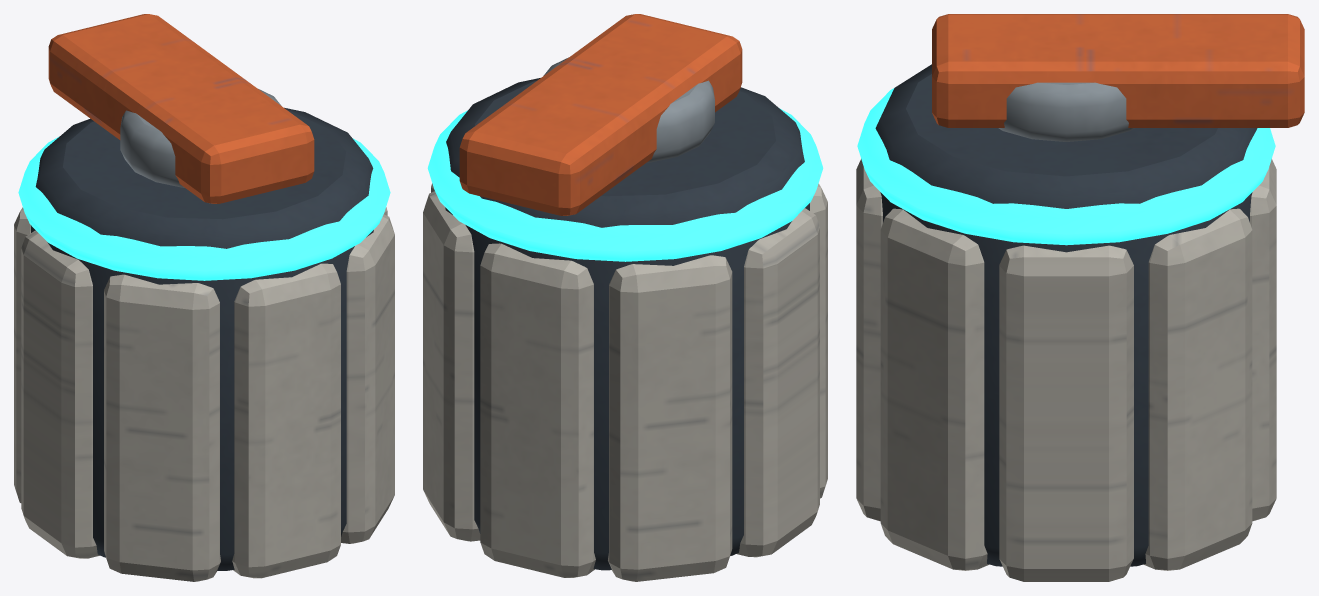
File: lunar-grenade.glb
The picture shows the model from 3 angles, left to right: view 1: azimuth 30°, elevation 25°; view 2: azimuth 150°, elevation 25°; view 3: azimuth 270°, elevation 25°; orthographic projection. The views are drawn at different scales.
Parts seen in each view (by area): view 1: LunarGrenade_Lunar_ceramic, Core, Safety lever, Charge ring, Fuse cap; view 2: LunarGrenade_Lunar_ceramic, Safety lever, Core, Charge ring, Fuse cap; view 3: LunarGrenade_Lunar_ceramic, Safety lever, Core, Charge ring, Fuse cap.
Part boxes in pixels (x1,y1,x2,y2): LunarGrenade_Lunar_ceramic: [14, 207, 394, 581]; Core: [31, 107, 373, 570]; Safety lever: [48, 14, 314, 203]; Charge ring: [18, 136, 390, 280]; Fuse cap: [120, 89, 281, 187]; LunarGrenade_Lunar_ceramic: [423, 183, 827, 581]; Safety lever: [459, 14, 742, 215]; Core: [445, 78, 809, 570]; Charge ring: [427, 108, 823, 261]; Fuse cap: [543, 57, 714, 162]; LunarGrenade_Lunar_ceramic: [856, 159, 1276, 581]; Safety lever: [932, 14, 1304, 127]; Core: [875, 64, 1257, 566]; Charge ring: [857, 88, 1275, 245]; Fuse cap: [998, 82, 1134, 141].
Size of the model in its own units: 0.203 by 0.2475 by 0.2165.
Materials: 5 (4 with a texture image).
